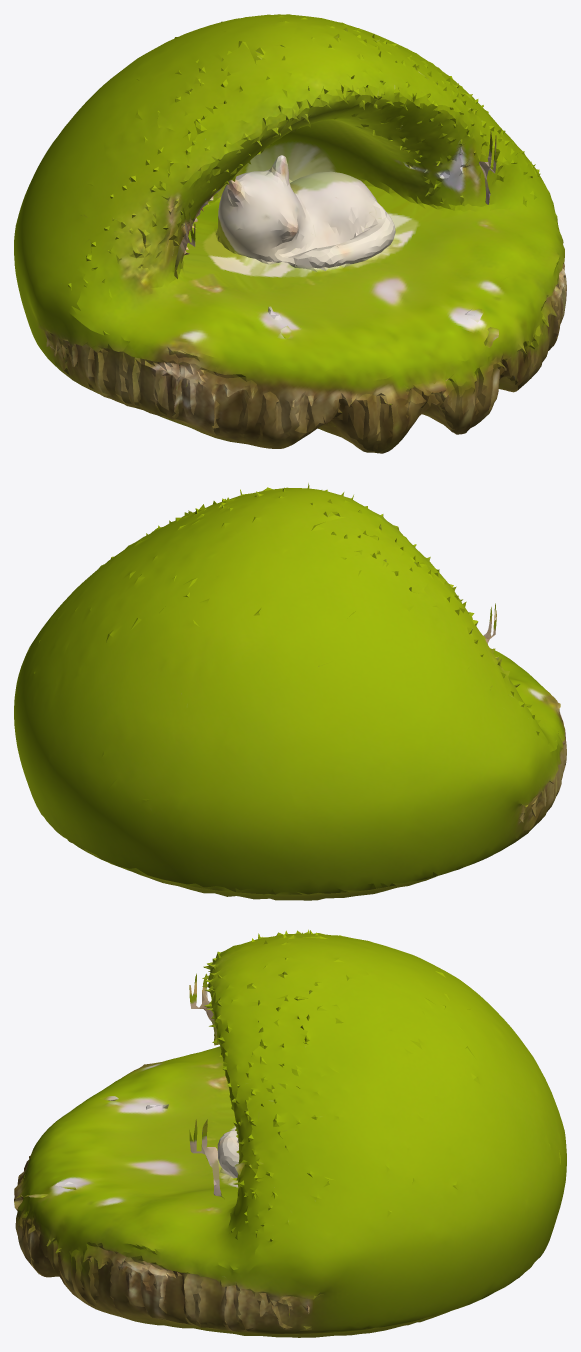
3 views of the same model, one above another, from view 1: azimuth 30°, elevation 25°; view 2: azimuth 150°, elevation 25°; view 3: azimuth 270°, elevation 25° (orthographic). The views are drawn at different scales.
Visible parts, largest first — view 1: 026; view 2: 026; view 3: 026.
Boxes of the visible parts, x1,y1,x2,y2 form: 026: (14,14,566,453); 026: (14,483,566,900); 026: (14,929,566,1337).
Bounding box in the file's own units: 1.9 × 1.14 × 1.88.
Materials: 1 (1 with a texture image).
